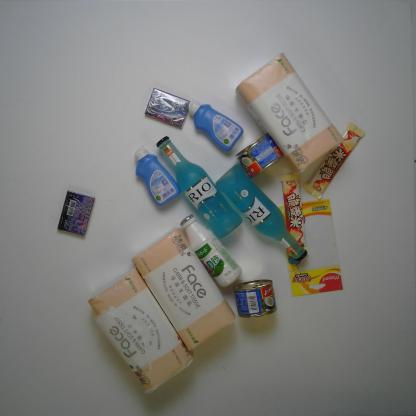Alcohol: (214, 164, 308, 261), (156, 135, 243, 239)
Canned Food: (235, 131, 284, 180), (233, 279, 278, 320)
Chocolate: (304, 121, 366, 200), (276, 173, 309, 262)
Gum: (144, 88, 190, 129), (58, 189, 96, 236)
Milk: (178, 214, 244, 288)
Personal Hygiene: (187, 98, 244, 154), (133, 144, 181, 207)
Stationery: (278, 198, 344, 298)
Tissue: (235, 51, 346, 183), (87, 268, 194, 394), (131, 227, 237, 353)
